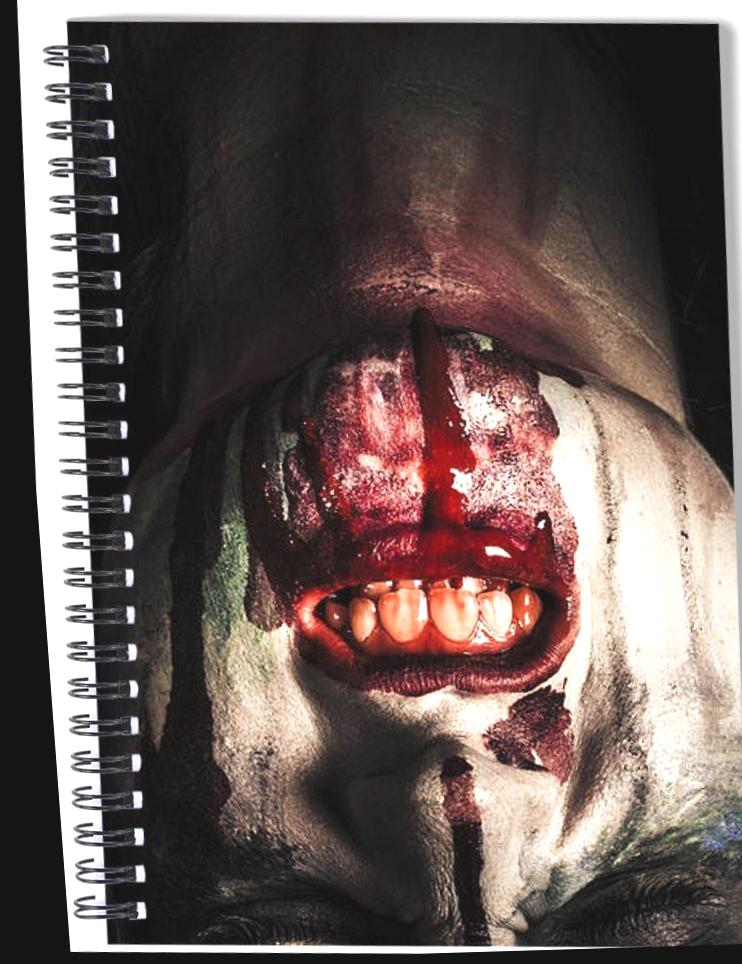Fire: (233, 311, 569, 697), (427, 759, 474, 948), (471, 690, 561, 787)
